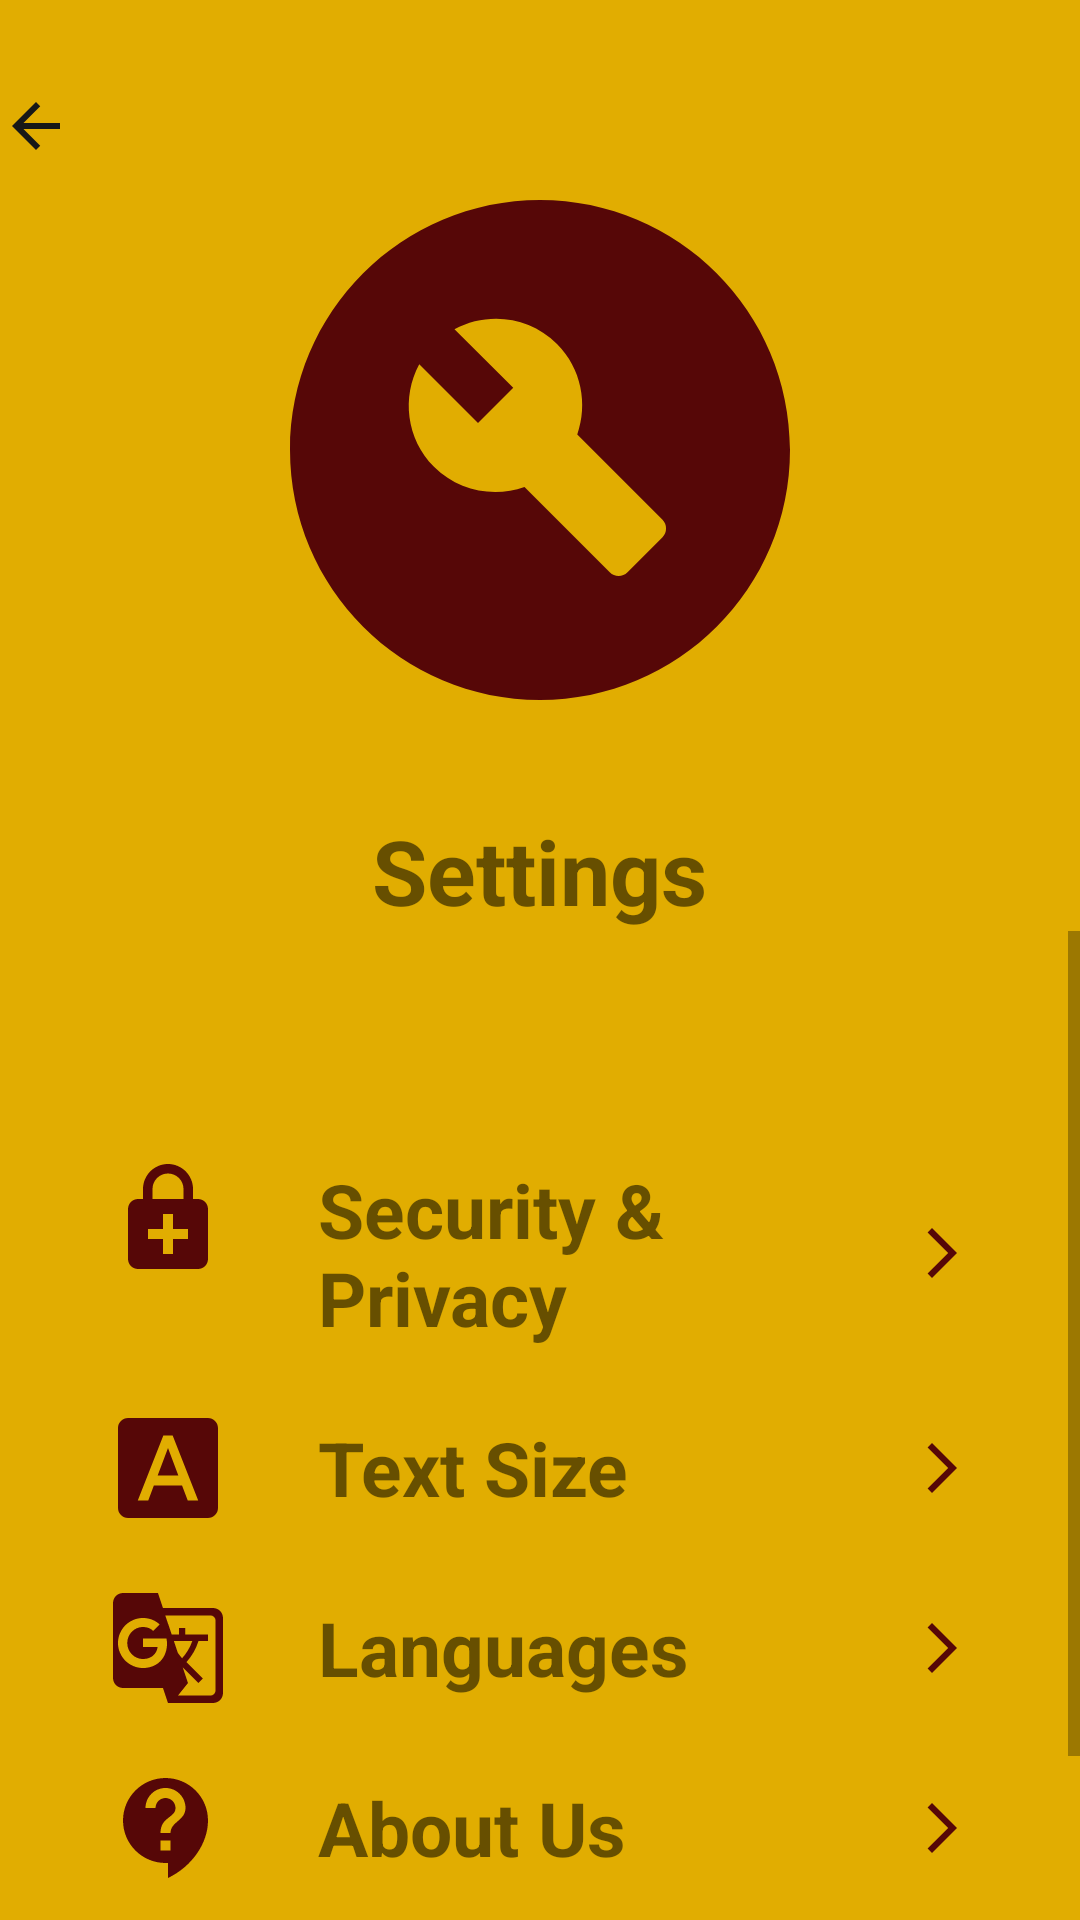

Icons on this 1080w x 1920h Android screen, each with its box as (left=x1, top=y1, right=x2, bottom=y2):
arrow forward: (left=927, top=1228, right=957, bottom=1278), (left=927, top=1443, right=957, bottom=1493), (left=927, top=1623, right=957, bottom=1673), (left=927, top=1803, right=957, bottom=1853)
Back: (left=12, top=102, right=60, bottom=150)
